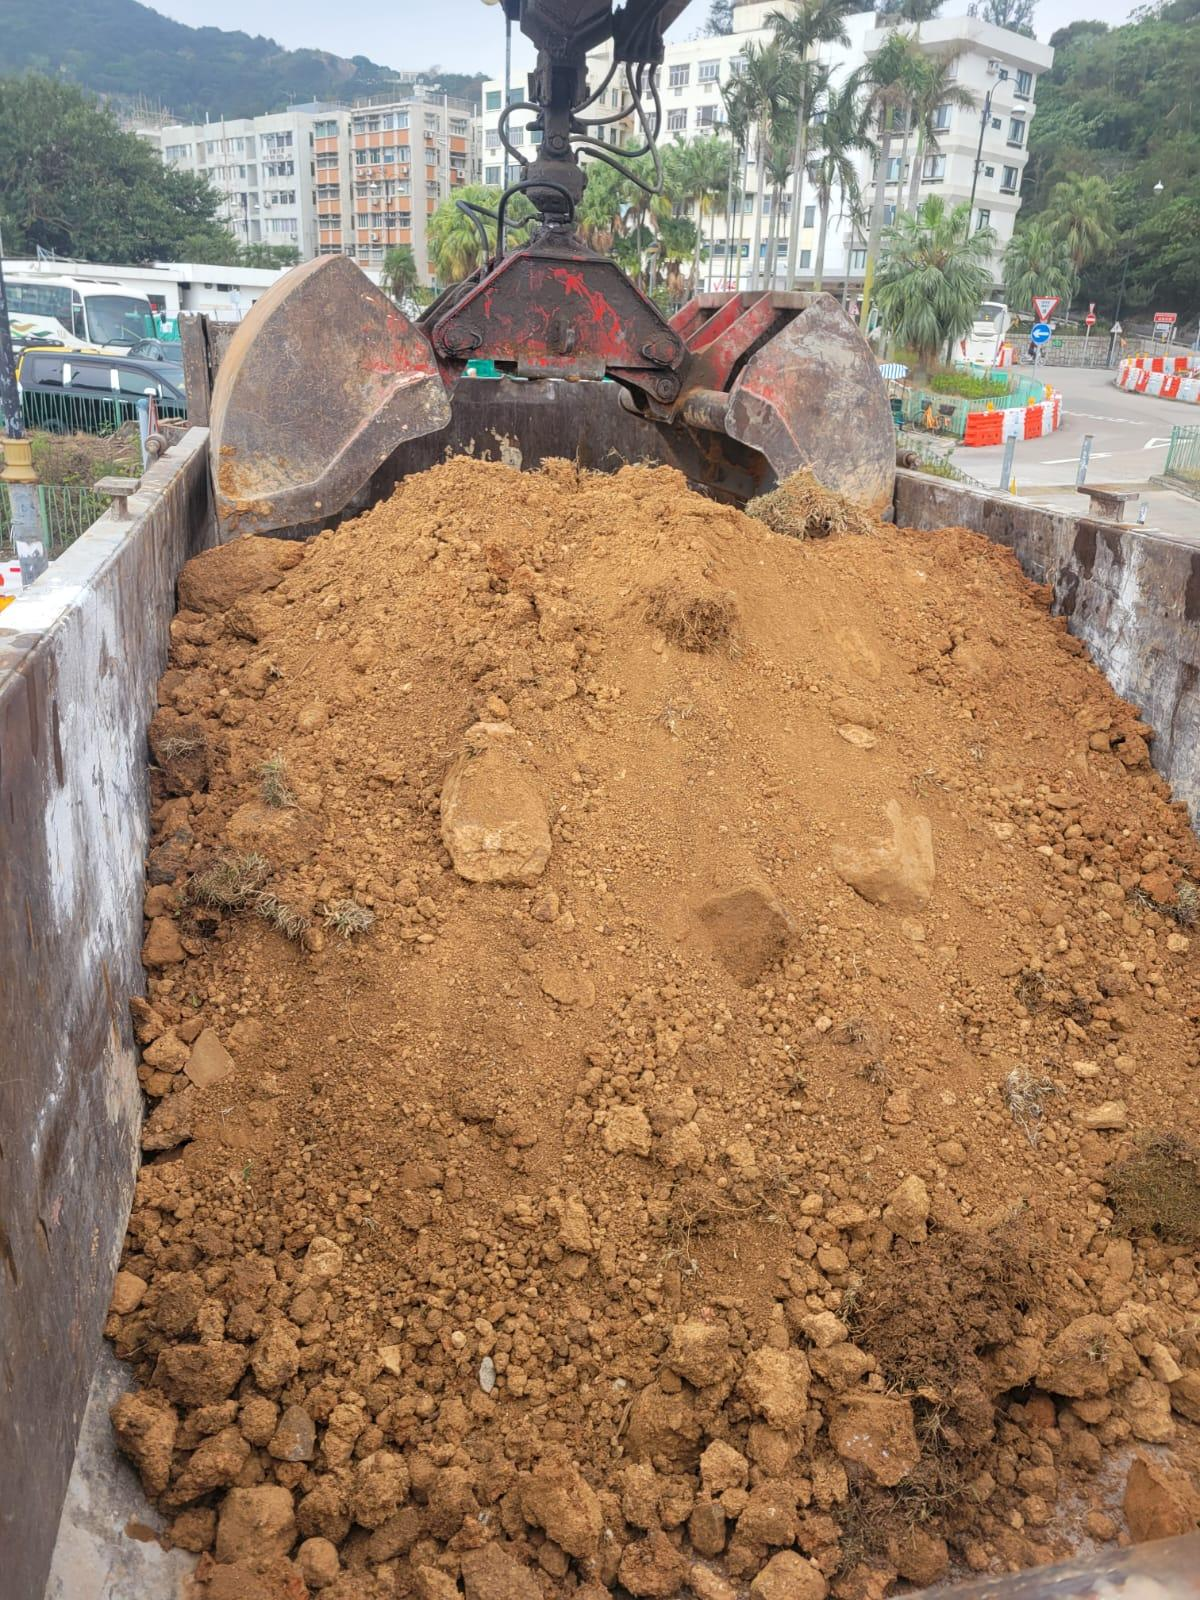dry: (117, 465, 1200, 1600)
